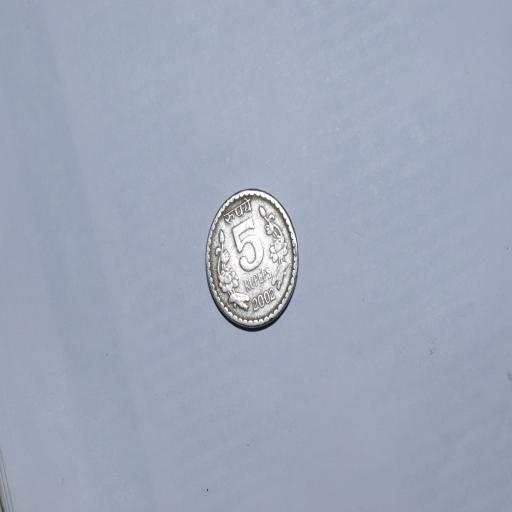rupee5: (203, 185, 301, 332)
